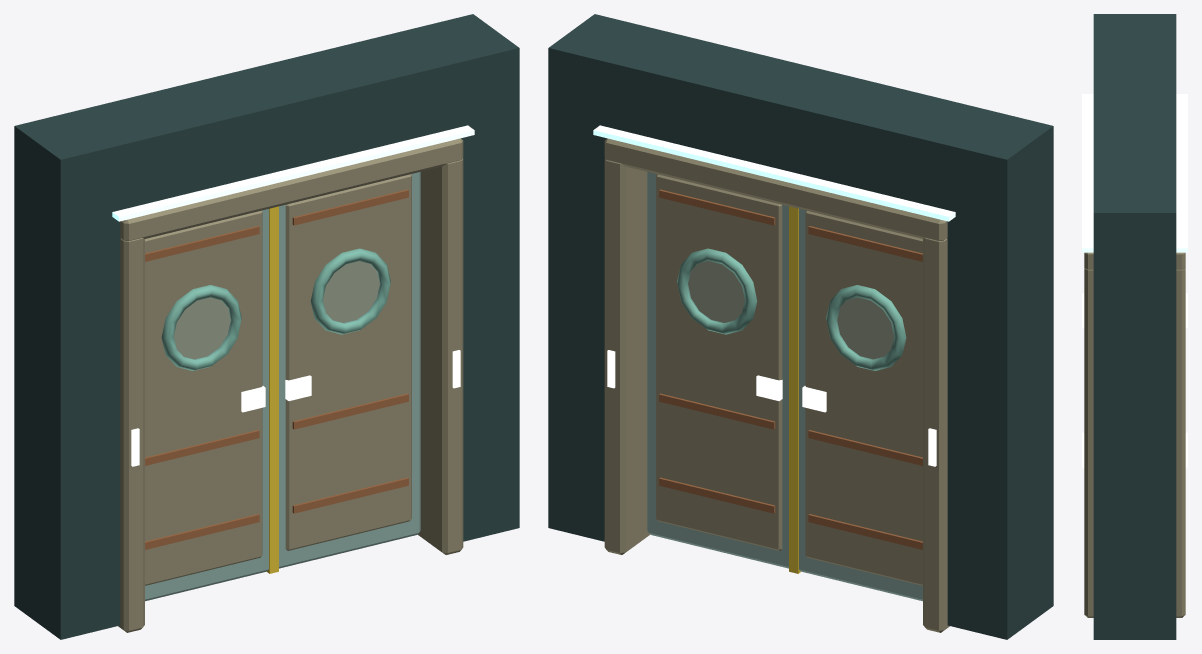
The model's file is door_dr_hatch.glb.
3 renders of one model, left to right at view 1: azimuth 30°, elevation 25°; view 2: azimuth 150°, elevation 25°; view 3: azimuth 270°, elevation 25°, orthographic. The views are drawn at different scales.
Parts seen in each view (by area): view 1: frame, leaf_r, leaf_l; view 2: frame, leaf_r, leaf_l; view 3: frame.
Part boxes in pixels (box(x1,y1,x2,y2)): frame: box(14, 14, 519, 639); leaf_r: box(273, 172, 420, 572); leaf_l: box(145, 207, 274, 601); frame: box(548, 14, 1053, 639); leaf_r: box(647, 172, 793, 572); leaf_l: box(793, 207, 922, 601); frame: box(1082, 14, 1187, 639).
Bounding box in the file's own units: 4 × 4.05 × 0.9.
